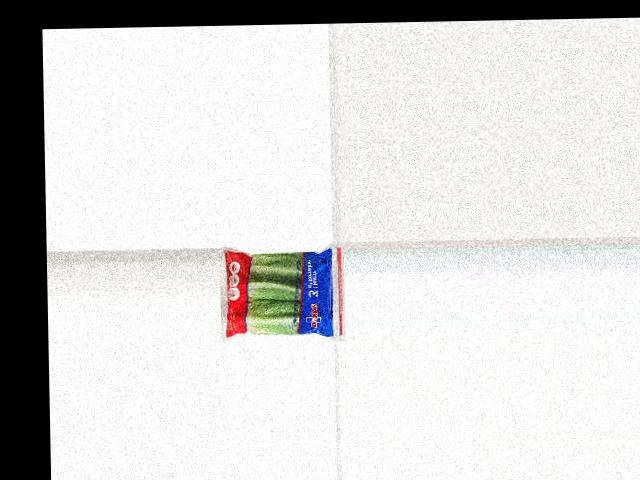lettuce: (220, 247, 338, 343)
